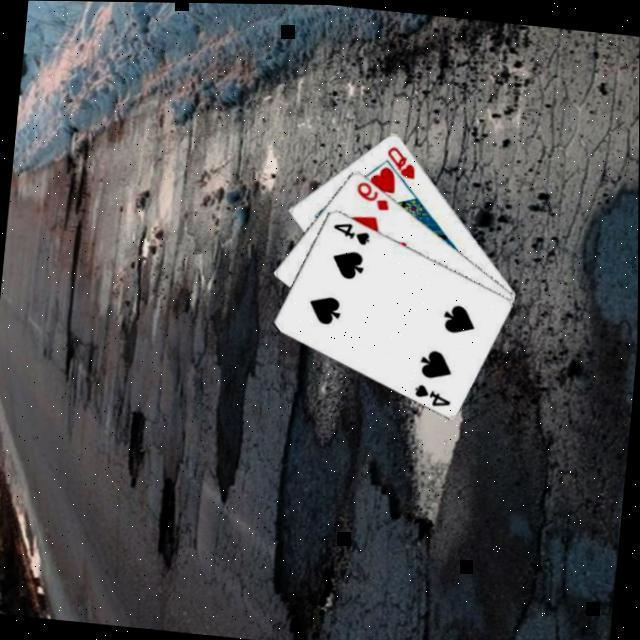4S: (328, 215, 372, 246), (408, 377, 452, 408)
9D: (350, 176, 392, 210)
QH: (380, 140, 418, 178)
